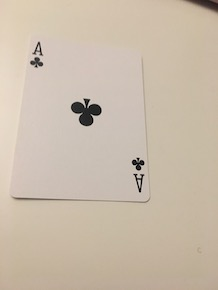AceOfClubs: (10, 29, 152, 206)
